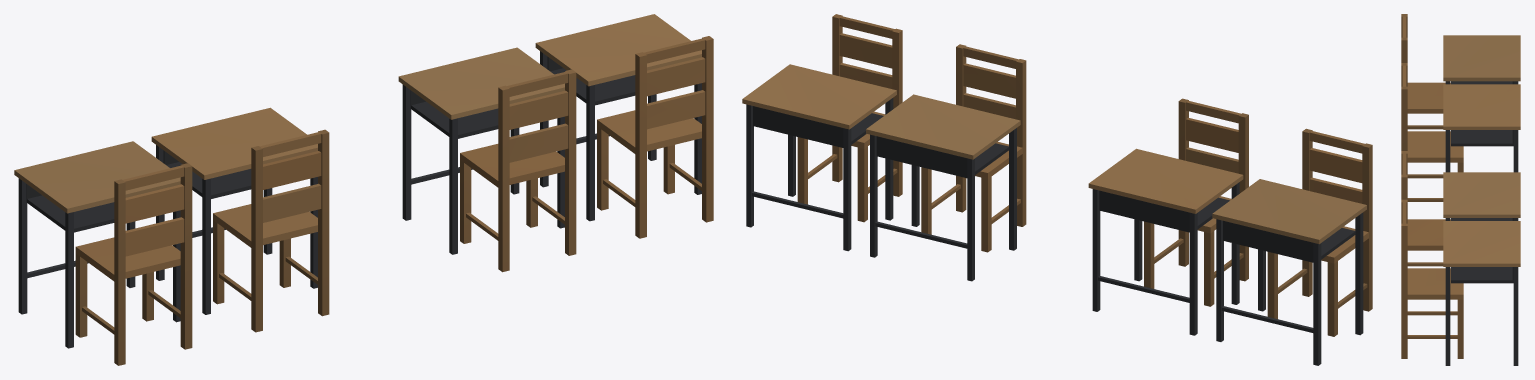
The model's file is table.school_desks.oak.glb.
3 views of the same model, side by side, from view 1: azimuth 30°, elevation 25°; view 2: azimuth 150°, elevation 25°; view 3: azimuth 270°, elevation 25° (orthographic). The views are drawn at different scales.
Visible parts, largest first — view 1: table_school_desks_oak; view 2: table_school_desks_oak; view 3: table_school_desks_oak.
Part boxes in pixels (x1,y1,x2,y2): table_school_desks_oak: (14, 14, 713, 365); table_school_desks_oak: (742, 14, 1372, 365); table_school_desks_oak: (1401, 14, 1520, 365).
Size of what is drawn, in the model's own units: 3.5 by 0.95 by 0.772.
